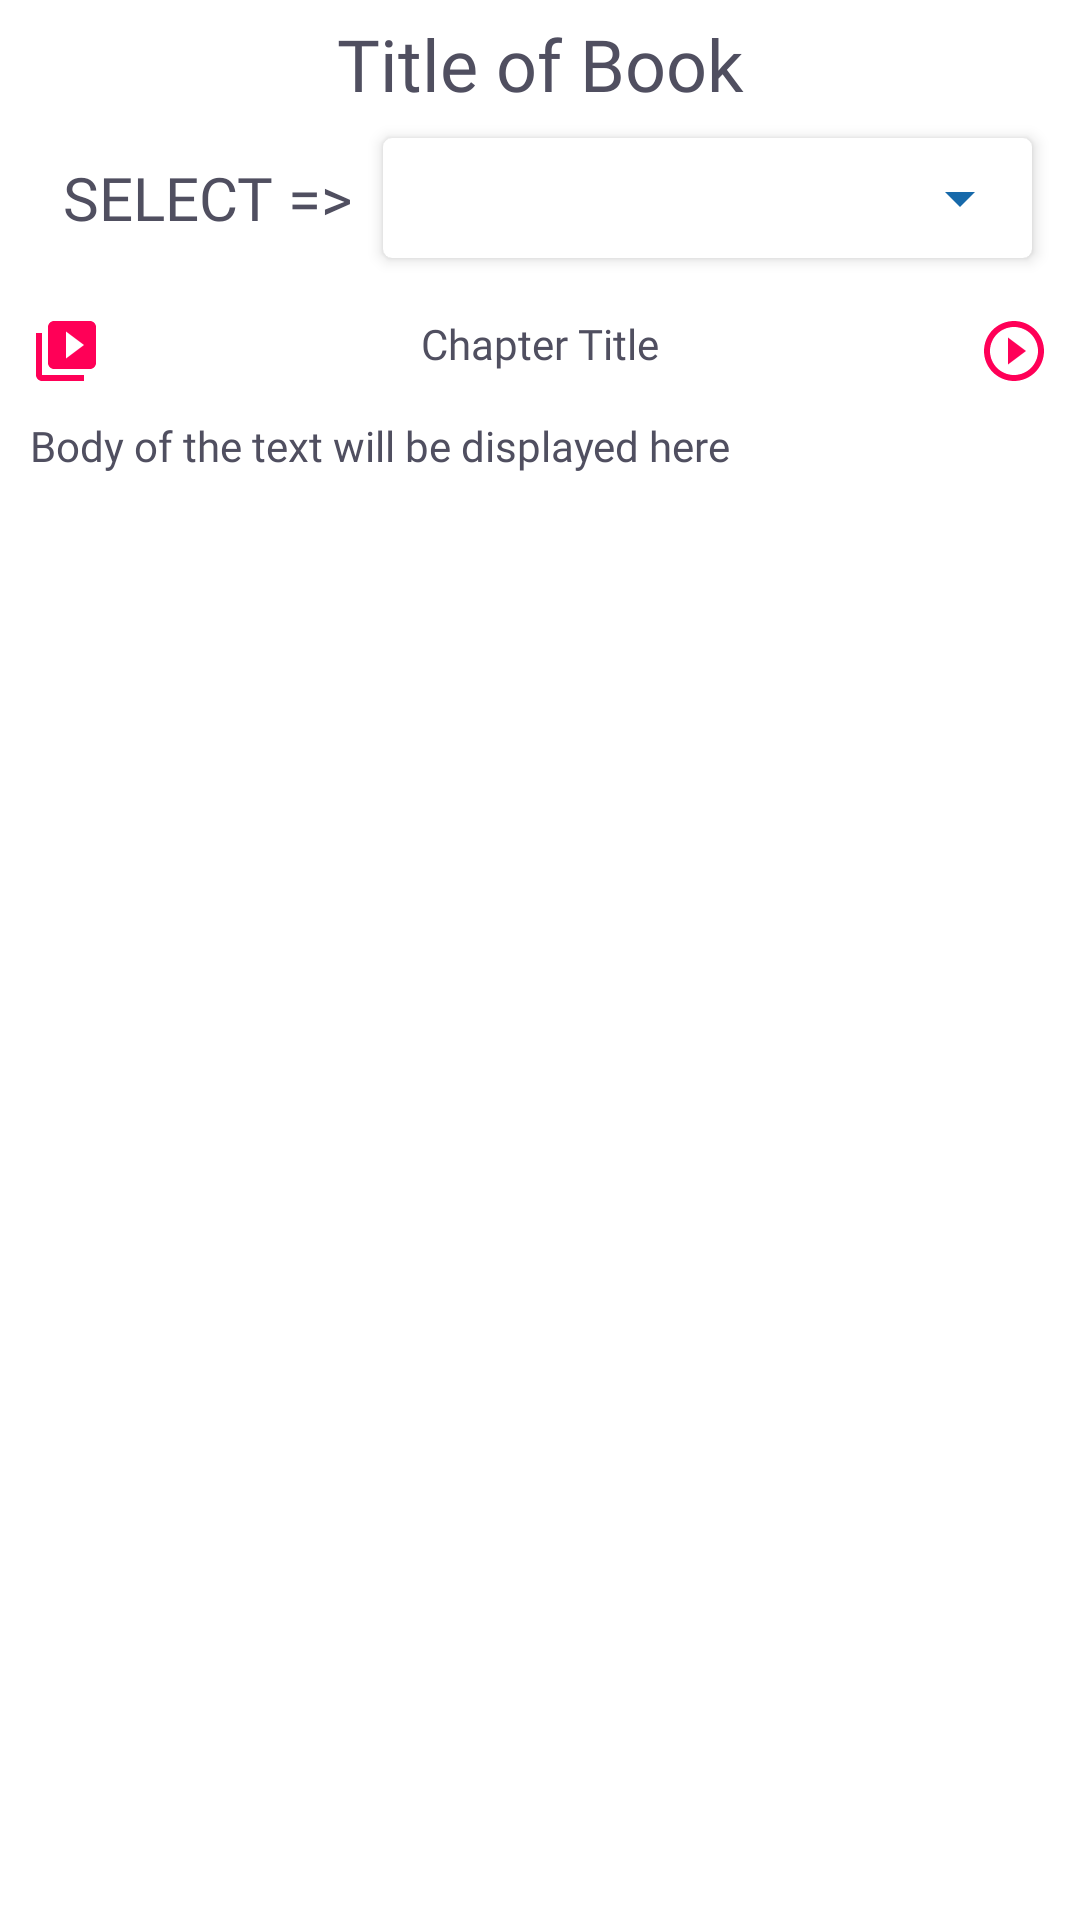

Where to tap for icons on this 1080×1920 app screen, as (x,y):
play: (1014,351)
video: (66,351)
